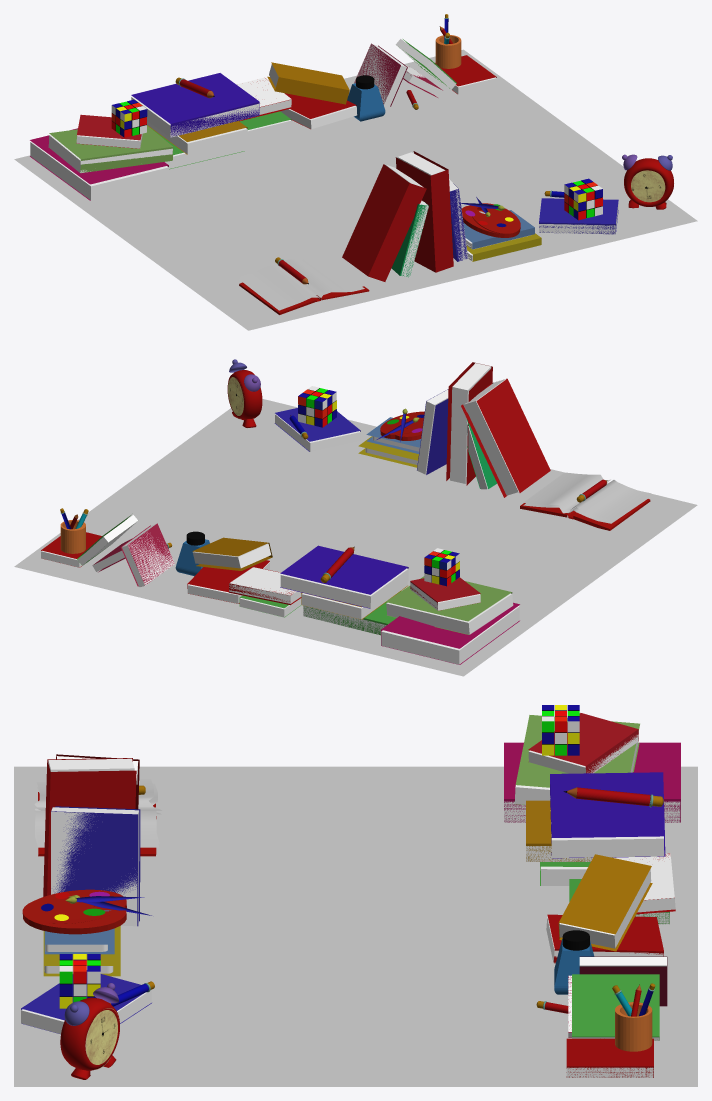
Rendered from my_texture.obj.
3 renders of one model, top to bottom at view 1: azimuth 30°, elevation 25°; view 2: azimuth 150°, elevation 25°; view 3: azimuth 270°, elevation 25°, orthographic. The views are drawn at different scales.
Parts seen in each view (by area): view 1: Plane, Cube.004_Cube.006, Cube.013_Cube.015, Plane.004_Plane.011, Cube.005_Cube.007, Cube.019_Cube.002, Cube.020_Cube.012, Cylinder.001_Cylinder.003, Cube.003_Cube.005, Cube.023, Cube.015_Cube.017, Cube.001_Cube.003 (+17 smaller); view 2: Plane, Cube.004_Cube.006, Cube.013_Cube.015, Plane.004_Plane.011, Cube.019_Cube.002, Cube.020_Cube.012, Cube.005_Cube.007, Cube.015_Cube.017, Cube.003_Cube.005, Cube.006_Cube.008, Cube.023, Cylinder.001_Cylinder.003 (+16 smaller); view 3: Plane, Cube.013_Cube.015, Cube.006_Cube.008, Cube.003_Cube.005, Cube.005_Cube.007, Cylinder.001_Cylinder.003, Cube.017_Cube.019, Cylinder.002_Cylinder.013, Cube.019_Cube.002, Cube.021, Cube.018_Cube.020, Cube.020_Cube.012 (+14 smaller).
Part boxes in pixels (x1,y1,x2,y2): Plane: (14,49,697,330); Cube.004_Cube.006: (342,164,426,281); Cube.013_Cube.015: (131,73,259,137); Plane.004_Plane.011: (239,255,369,314); Cube.005_Cube.007: (395,151,453,272); Cube.019_Cube.002: (30,128,168,200); Cube.020_Cube.012: (48,125,173,173); Cylinder.001_Cylinder.003: (622,154,673,209); Cube.003_Cube.005: (267,62,349,104); Cube.023: (539,198,618,234); Cube.015_Cube.017: (354,43,407,107); Cube.001_Cube.003: (280,93,357,129); Plane: (14,399,697,676); Cube.004_Cube.006: (461,378,550,497); Cube.013_Cube.015: (280,545,408,608); Plane.004_Plane.011: (520,472,650,530); Cube.019_Cube.002: (381,602,519,664); Cube.020_Cube.012: (386,576,513,634); Cube.005_Cube.007: (446,362,492,485); Cube.015_Cube.017: (120,523,174,586); Cube.003_Cube.005: (192,537,272,570); Cube.006_Cube.008: (417,389,448,474); Cube.023: (274,408,360,451); Cylinder.001_Cylinder.003: (227,359,262,427); Plane: (14,766,697,1086); Cube.013_Cube.015: (550,772,665,858); Cube.006_Cube.008: (51,806,140,926); Cube.003_Cube.005: (558,854,652,951); Cube.005_Cube.007: (43,758,136,896); Cylinder.001_Cylinder.003: (60,983,119,1079); Cube.017_Cube.019: (572,974,659,1040); Cylinder.002_Cylinder.013: (22,889,151,934); Cube.019_Cube.002: (504,742,680,822); Cube.021: (528,713,638,773); Cube.018_Cube.020: (566,1038,653,1077); Cube.020_Cube.012: (514,715,639,804).
Bounding box in the file's own units: 25.77 × 5.66 × 23.26.
